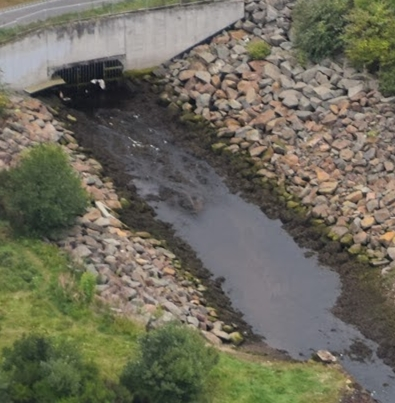scattered_barrel: (56, 71, 111, 127)
